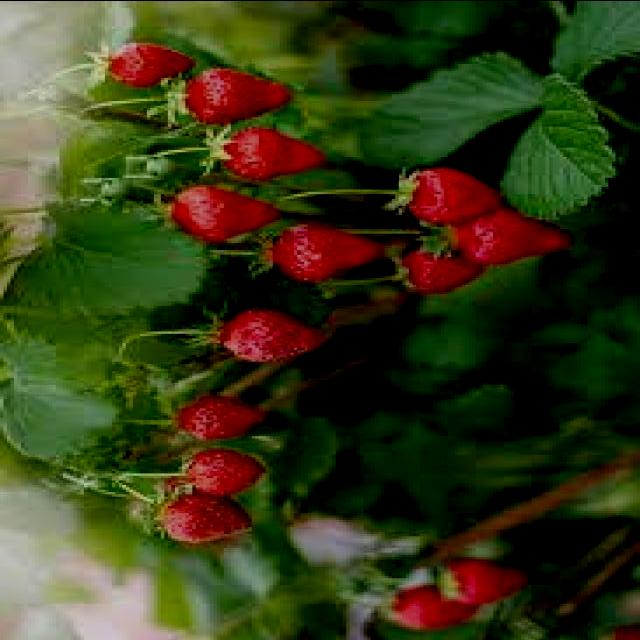ripe: (181, 57, 291, 128), (266, 220, 380, 285), (158, 185, 283, 242), (452, 209, 570, 267), (216, 306, 324, 368), (210, 126, 324, 182), (396, 163, 499, 224), (150, 494, 256, 549), (438, 551, 536, 606), (108, 34, 198, 90), (174, 392, 266, 444), (393, 244, 483, 295), (387, 584, 475, 628), (183, 451, 264, 496)
